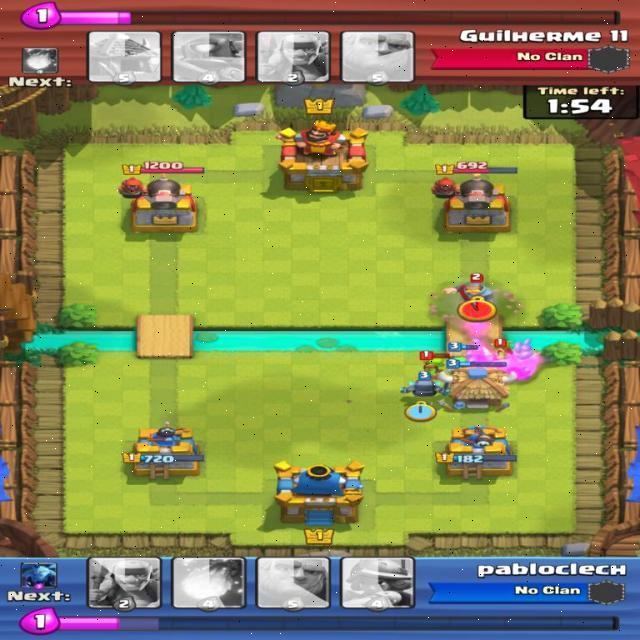ECannoneerTower: (437, 171, 517, 236), (129, 177, 196, 229)
EGoblin: (418, 348, 448, 378)
EKingTower: (270, 123, 370, 193)
EKnight: (448, 274, 499, 316)
OGoblinHut: (444, 360, 521, 407)
OMiniPekka: (405, 374, 441, 397)
OwnKingTower: (270, 464, 361, 524)
OwnPrincessTower: (446, 424, 512, 477), (134, 426, 198, 477)
